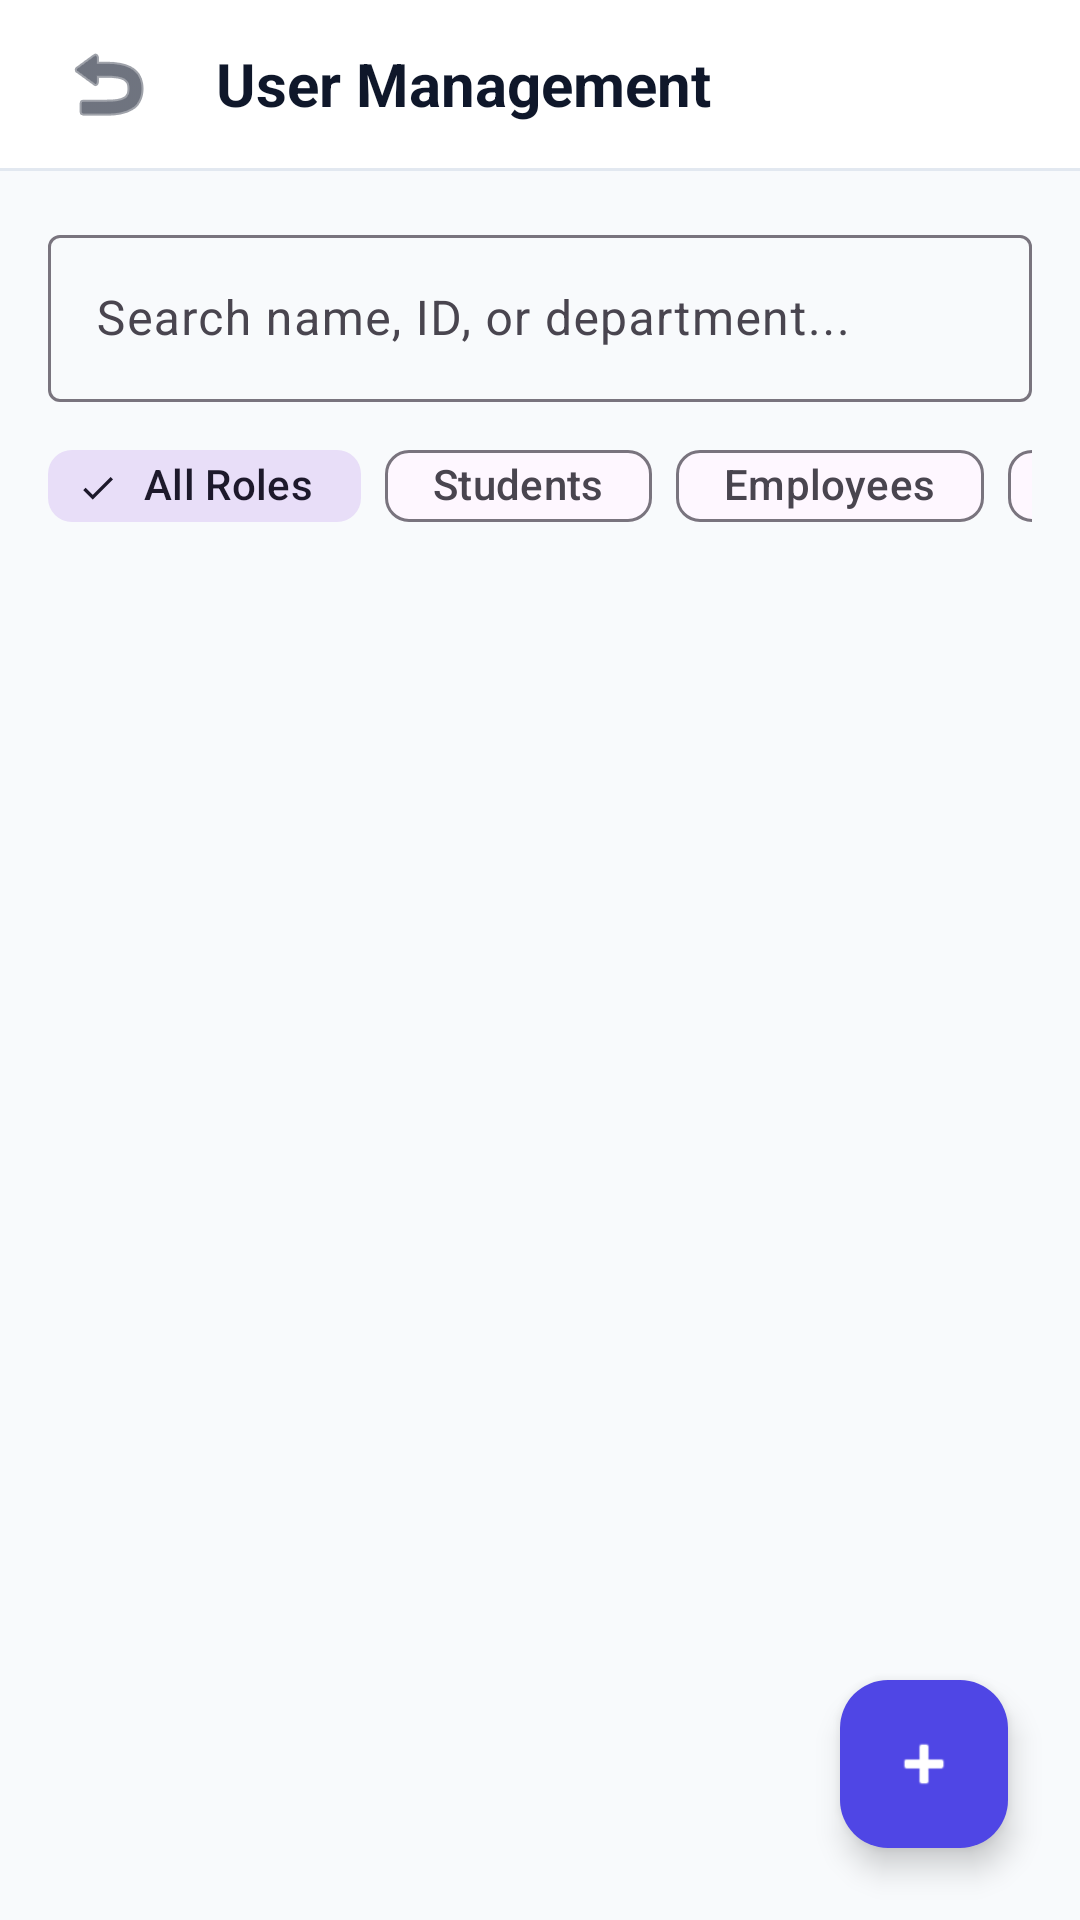

Where icons sit on this 1080×1920 app screen, as box(x1, y1, x2, y2):
Back: box(75, 53, 144, 116)
